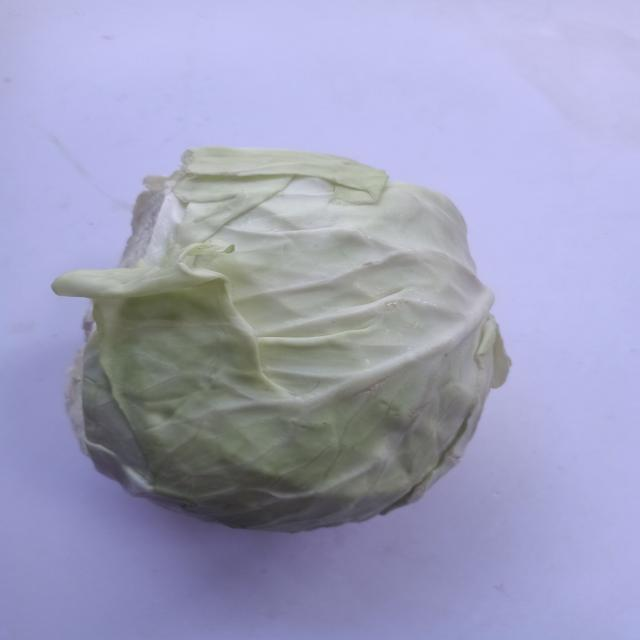Cabbage: (43, 122, 524, 540)
